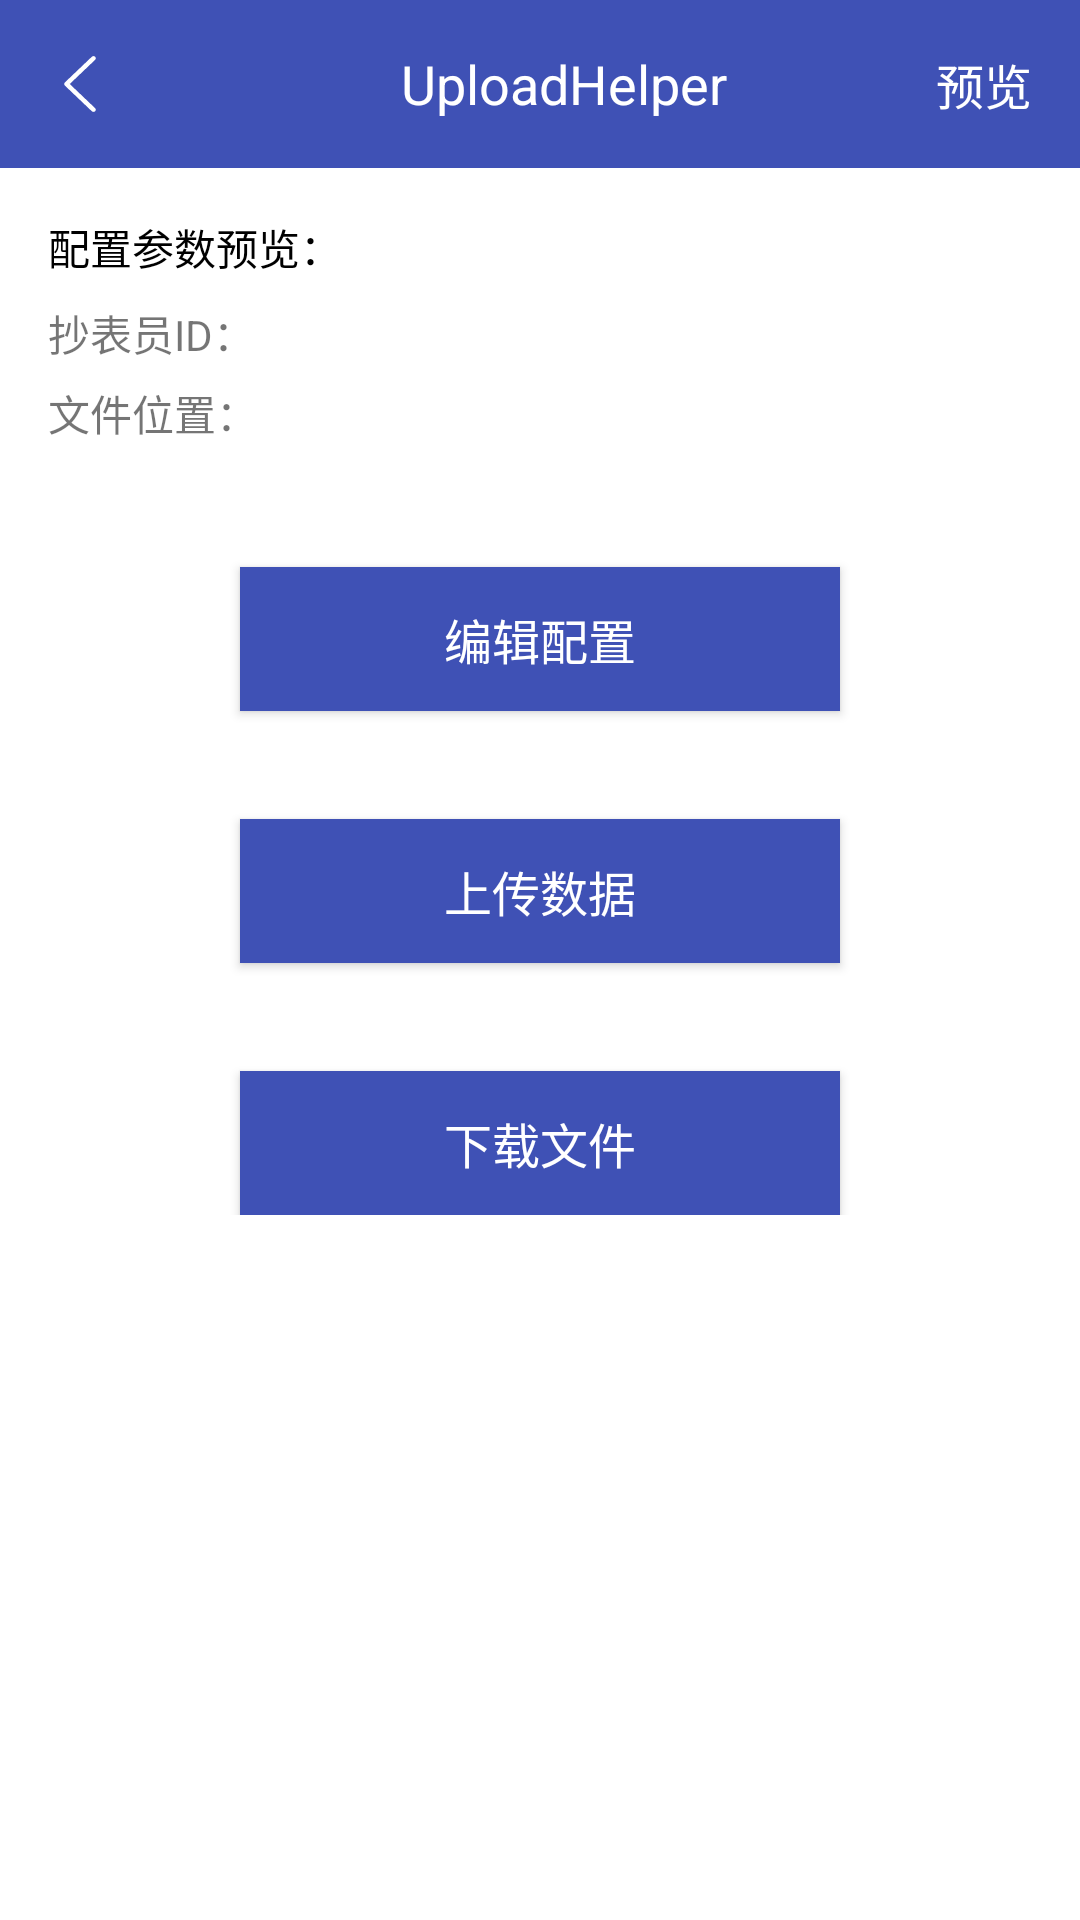

Screen size 1080x1920. Icon name, then its box in pixels as Rect(x1, y1, x2, y2):
back: Rect(64, 56, 96, 112)
